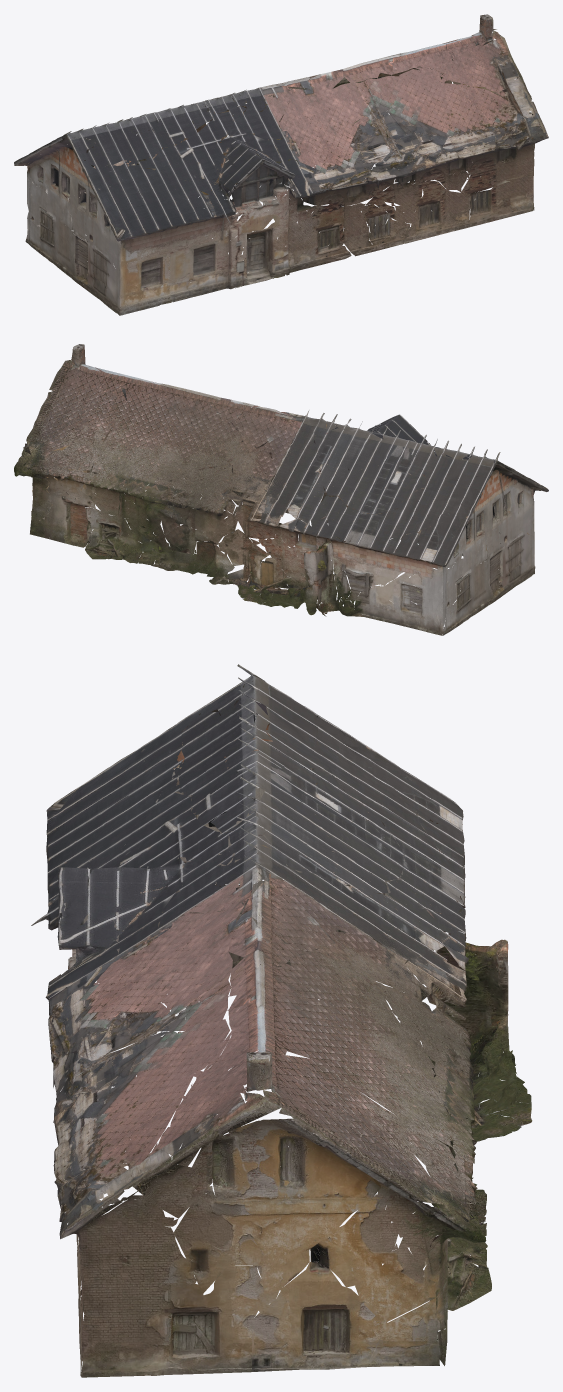
File: forest_ruin.glb
3 renders of one model, top to bottom at view 1: azimuth 30°, elevation 25°; view 2: azimuth 150°, elevation 25°; view 3: azimuth 270°, elevation 25°, orthographic. The views are drawn at different scales.
Parts seen in each view (by area): view 1: Model; view 2: Model; view 3: Model.
Part boxes in pixels (x1,y1,x2,y2): Model: (14, 14, 548, 315); Model: (14, 344, 548, 635); Model: (31, 664, 532, 1377).
Bounding box in the file's own units: 29.92 × 10.71 × 15.03.
Materials: 3 (3 with a texture image).
